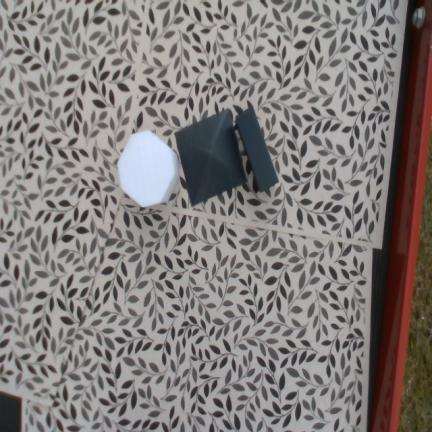Paralelepipedo: (235, 106, 279, 191)
Piramide: (175, 109, 247, 207)
Prisma_hexagonal: (117, 129, 180, 208)
